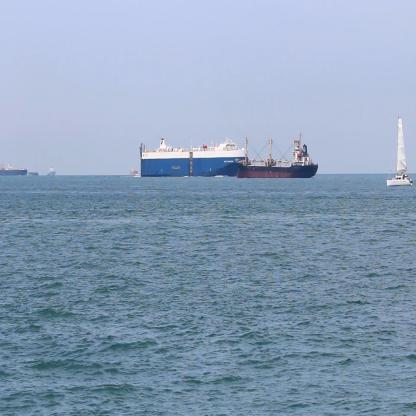Container Ship: (137, 134, 250, 180), (233, 133, 321, 183), (0, 162, 30, 180), (46, 163, 58, 179), (129, 165, 139, 178)
